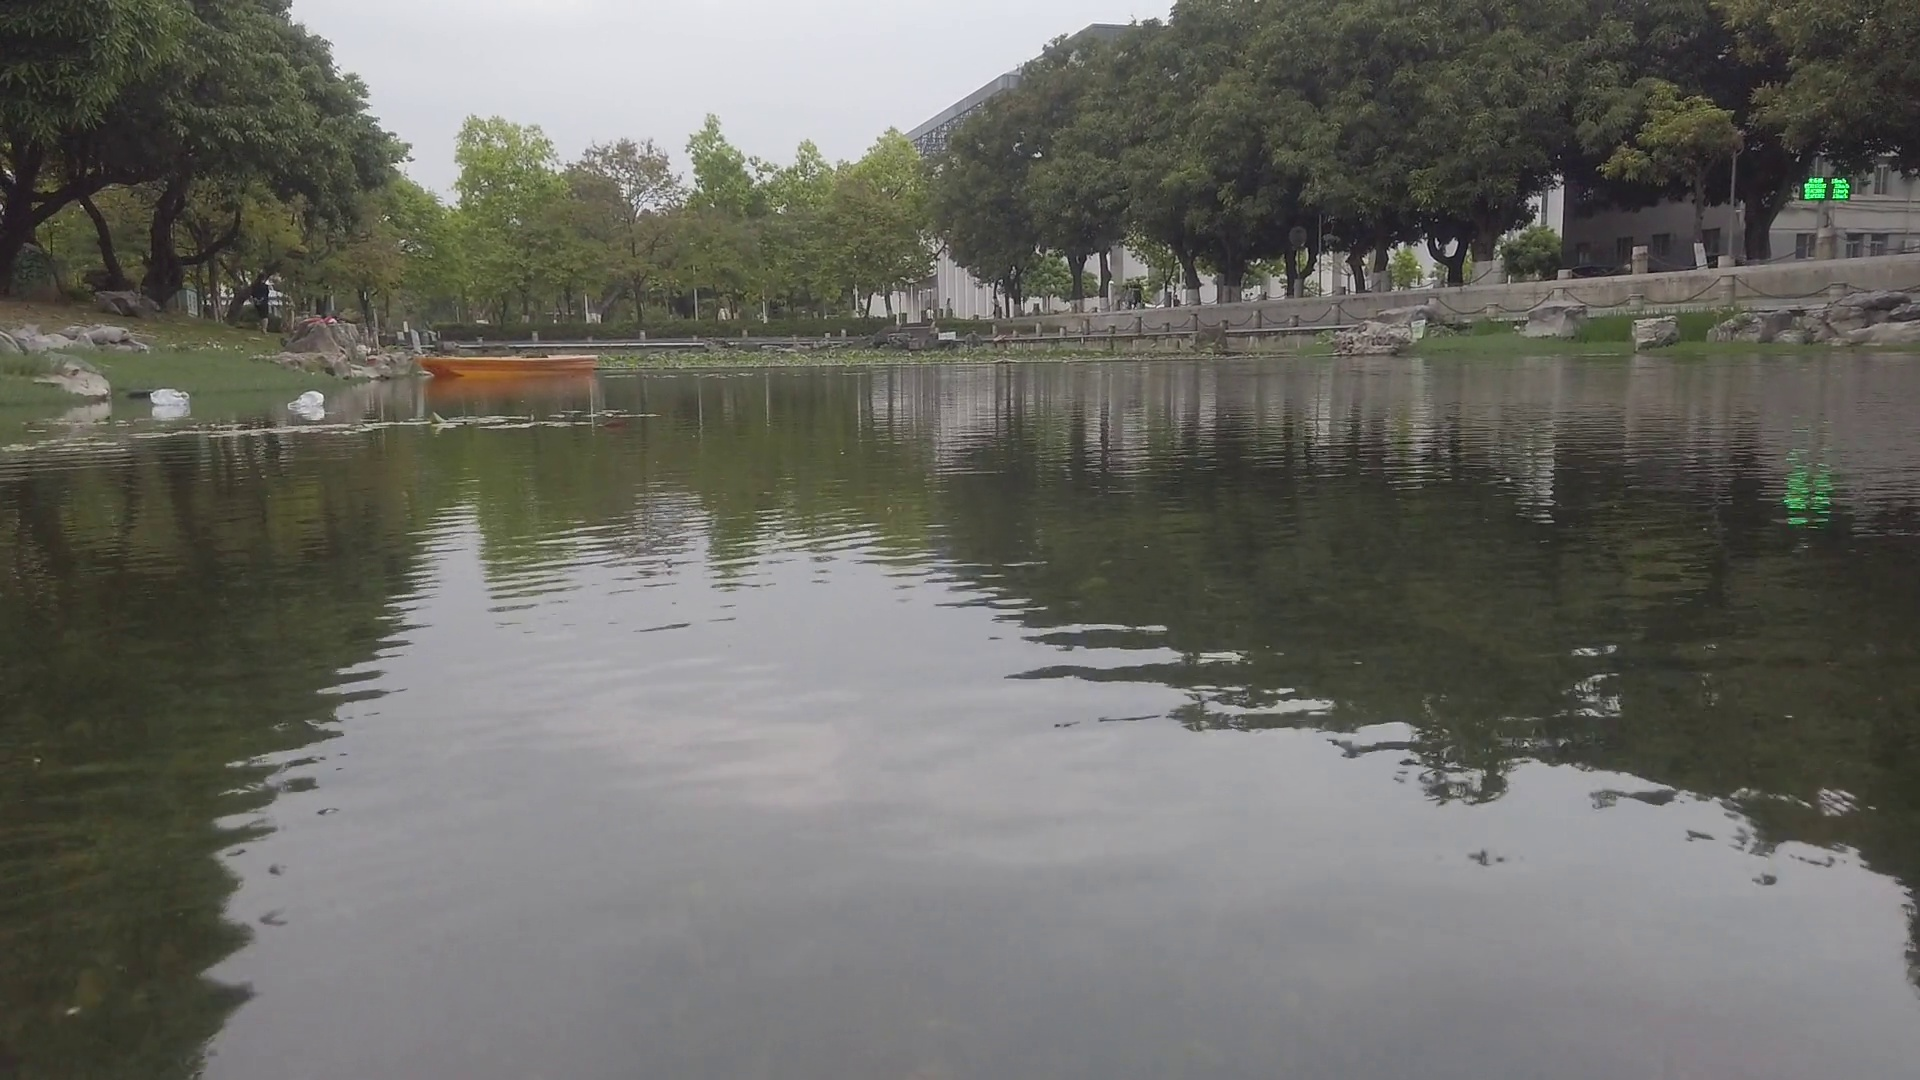plastic: (145, 389, 191, 409), (287, 388, 324, 406)
